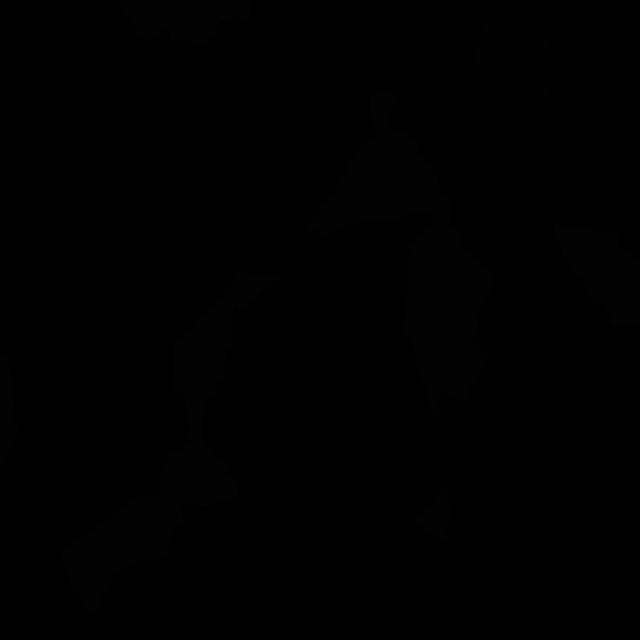cardboard: (306, 90, 496, 385), (163, 270, 280, 528), (60, 463, 174, 615), (555, 224, 640, 327), (118, 0, 252, 45), (418, 339, 488, 421), (0, 350, 20, 469), (417, 482, 450, 544)
rigid_plastic: (474, 0, 552, 117)
